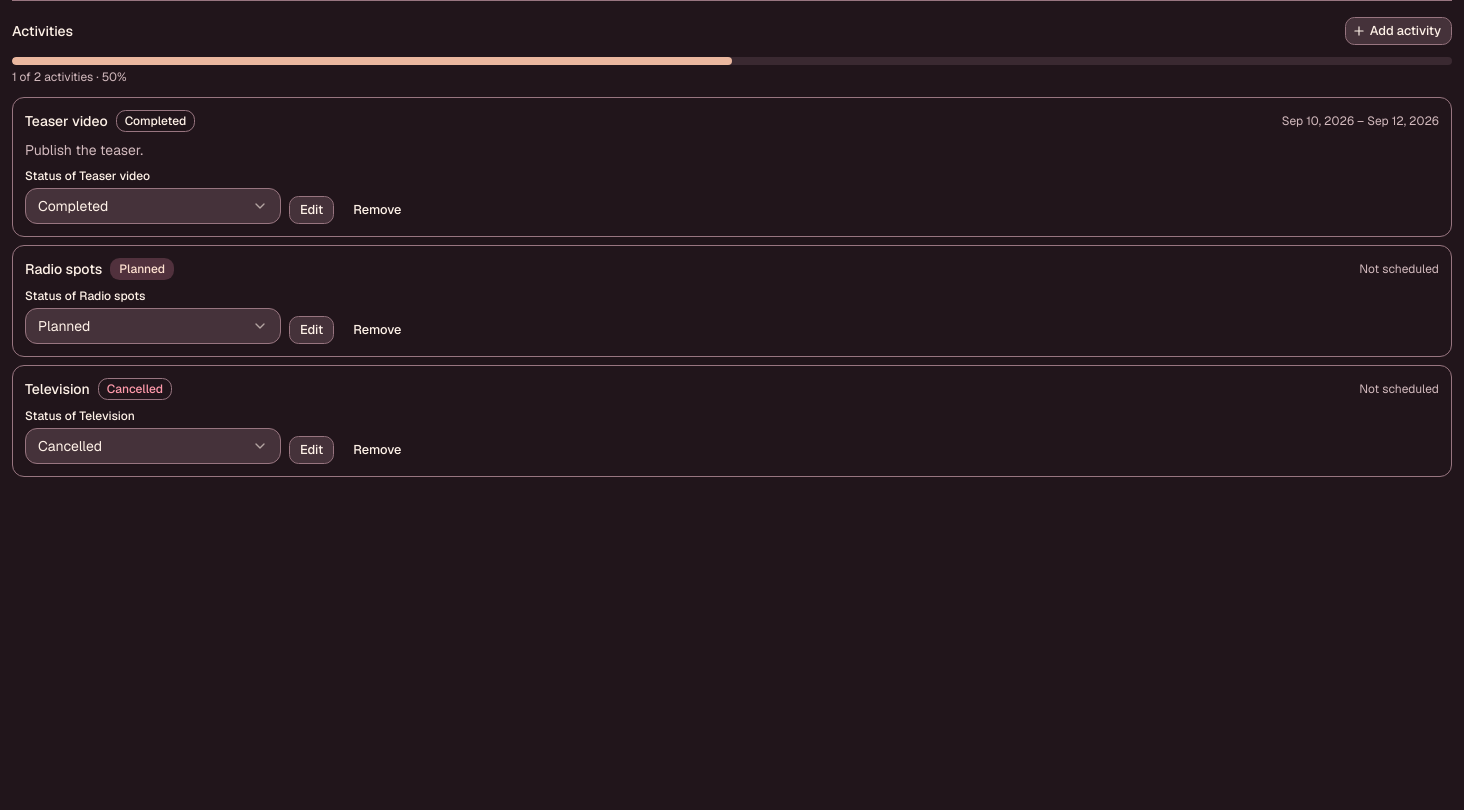
it: CampaignActivities › adding › creates an activity, lists it, and reports the new progress
expect the text "Teaser video" is shown: met, box [25,111,108,131]
Click the button "Add activity": click(1398, 31) [1345,17,1452,45]
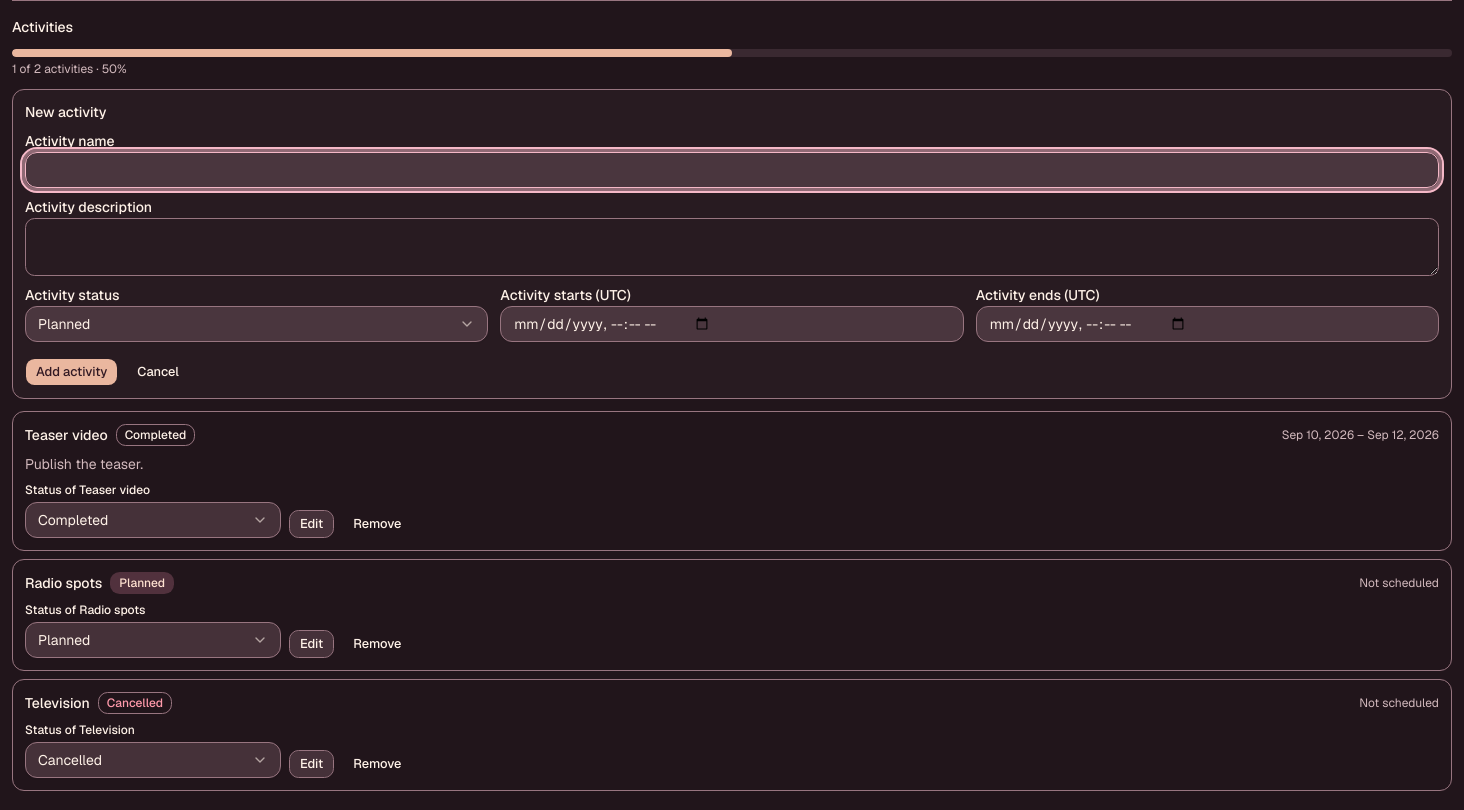
In the field labelled "Activity name": (732, 170) [25,152,1439,188], type "Billboards"
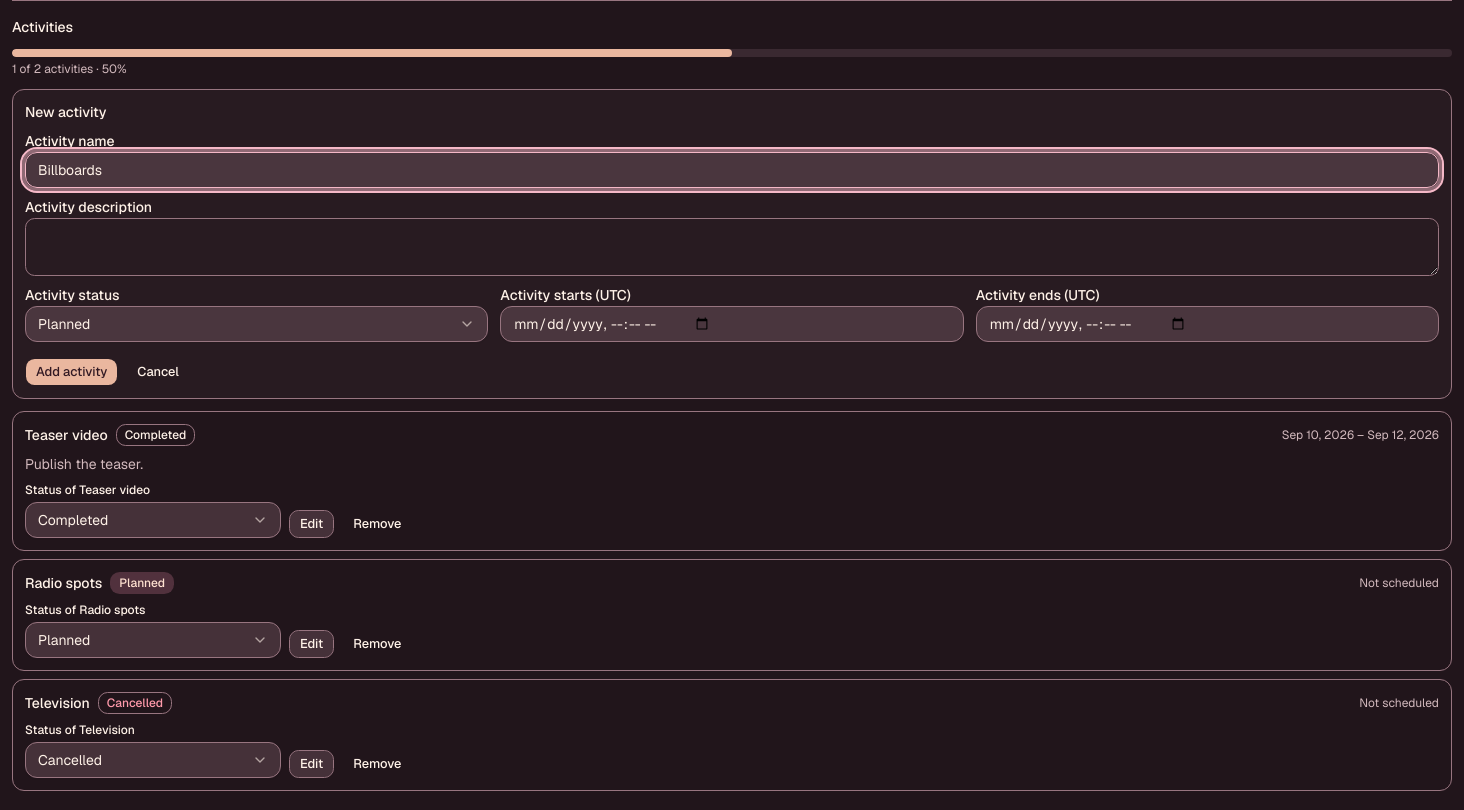
In the text box labelled "Activity description": (732, 247) [25,218,1439,276], type "City centre."
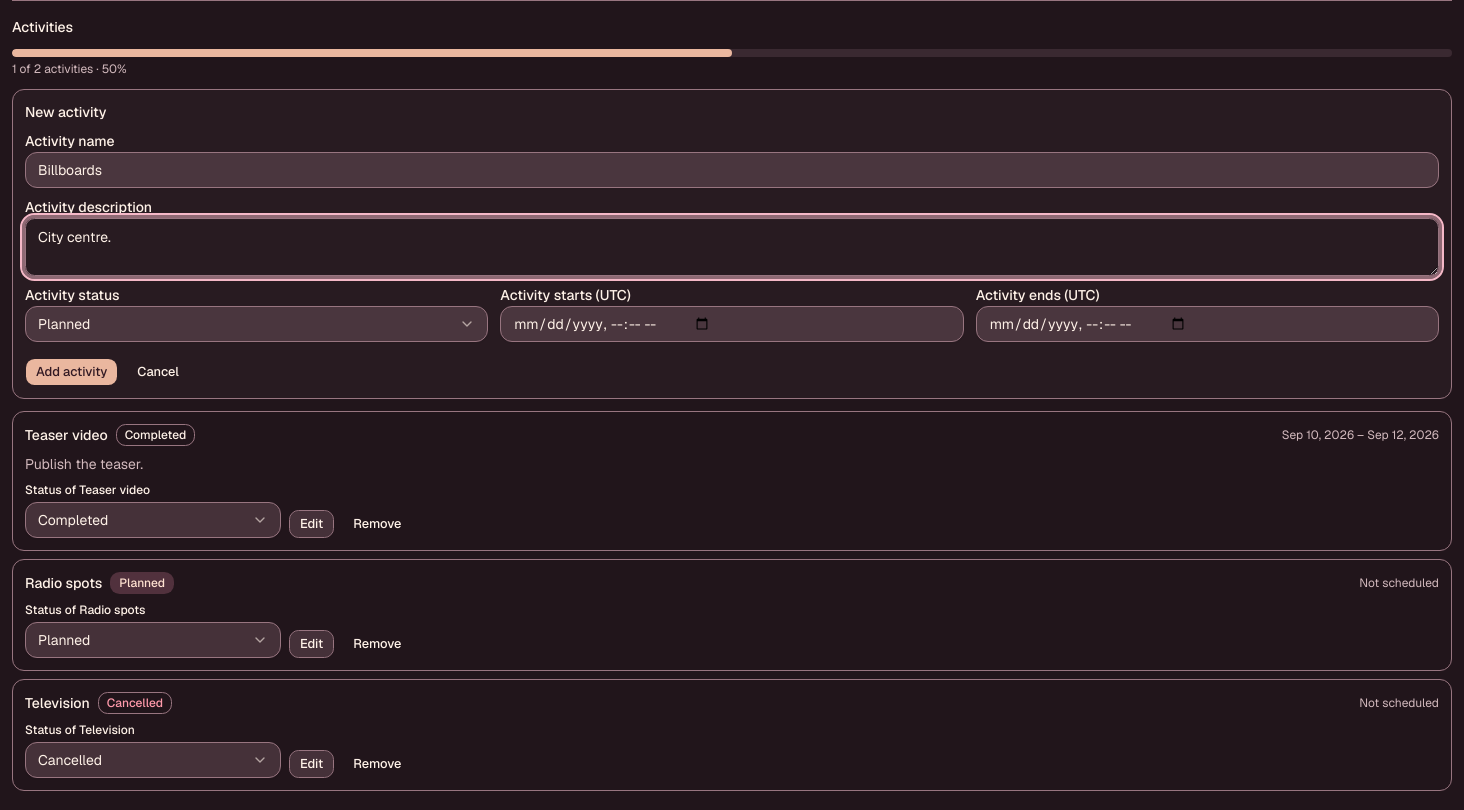
Click the dropdown named "Activity status": click(64, 324) [25,306,488,342]
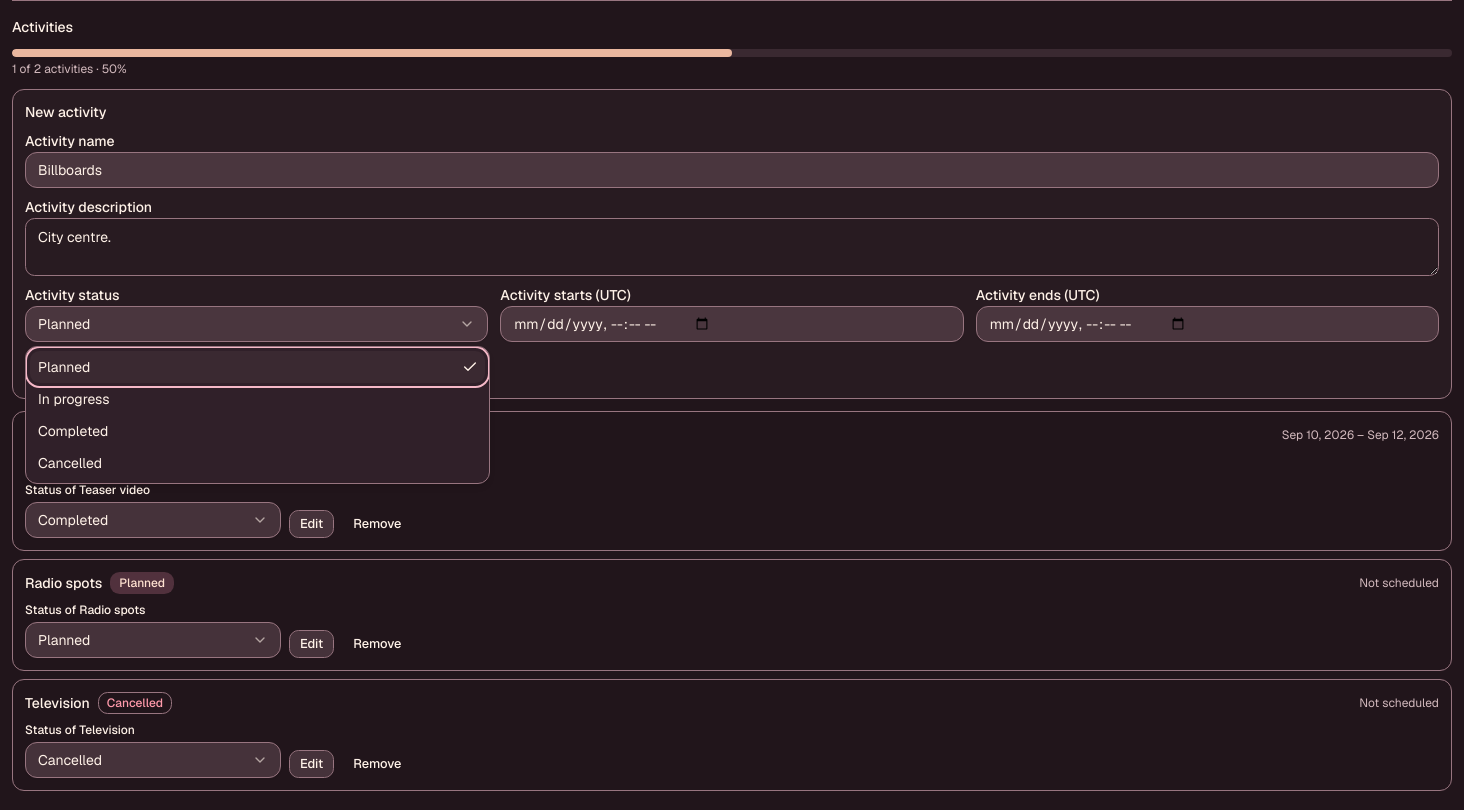
Click the option "Completed": click(73, 431) [38,422,108,440]
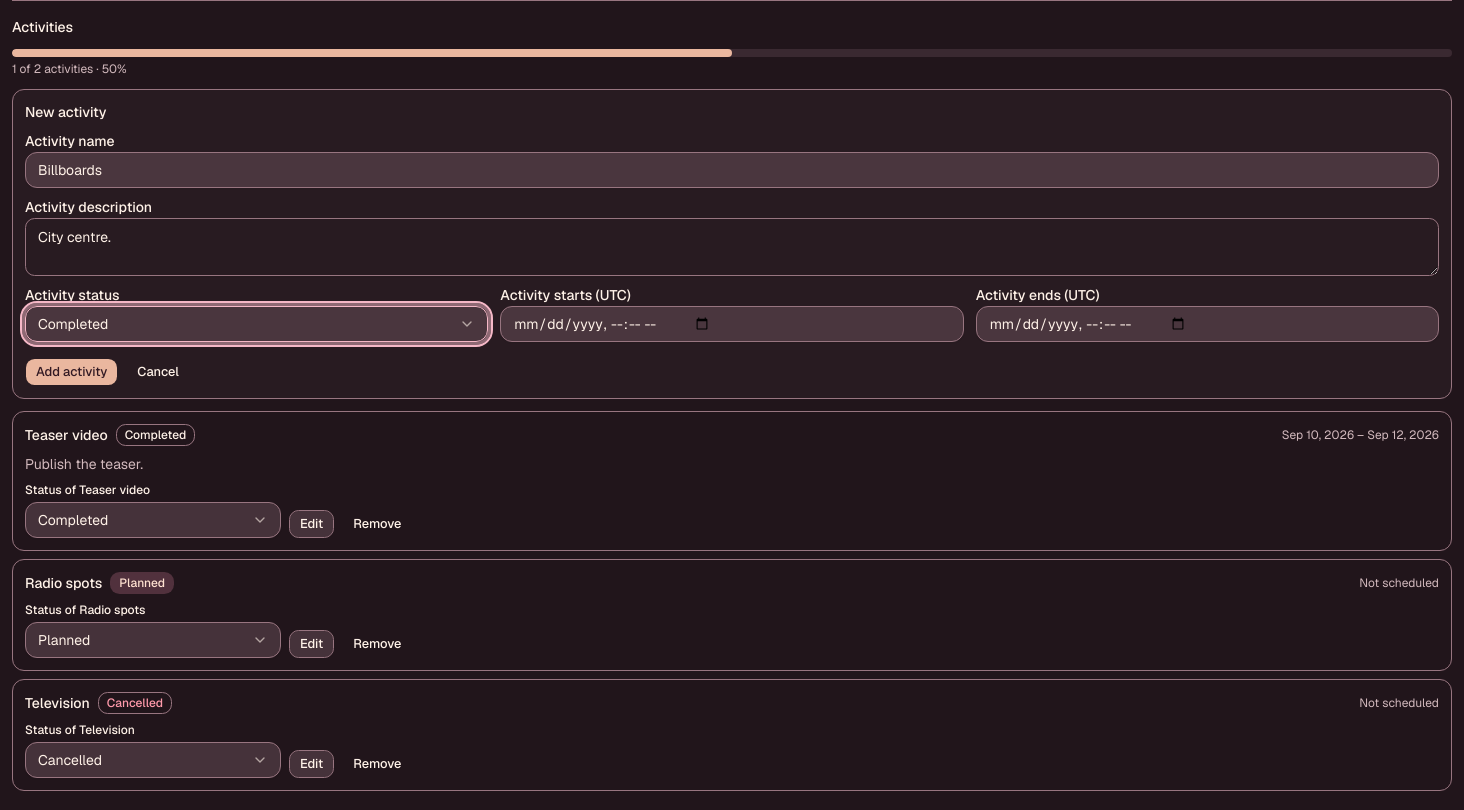
Click the button "Add activity": click(72, 372) [25,358,118,386]
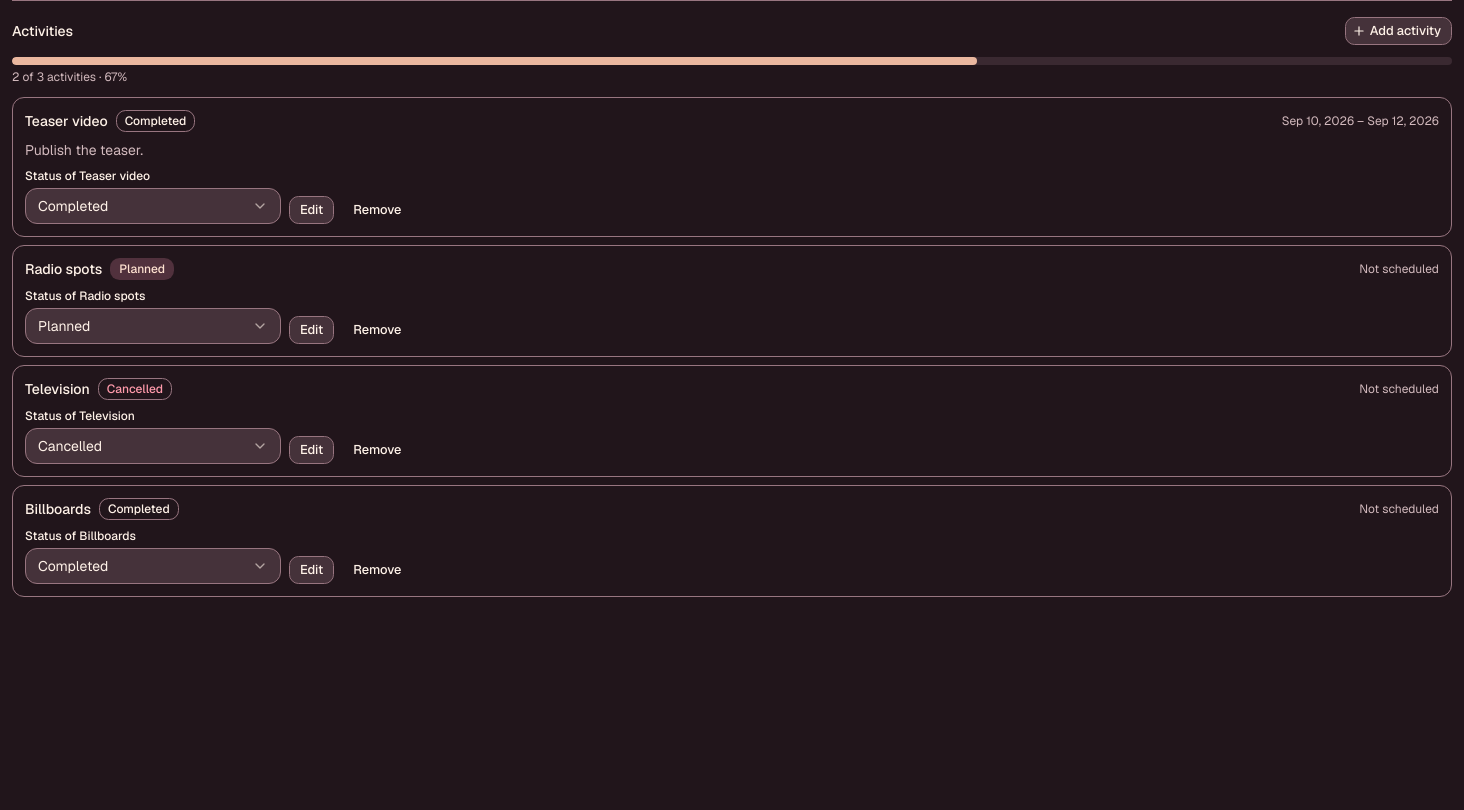
expect the text "Billboards" is shown: met, box [25,499,91,519]
expect the text "New activity" is gone: met
